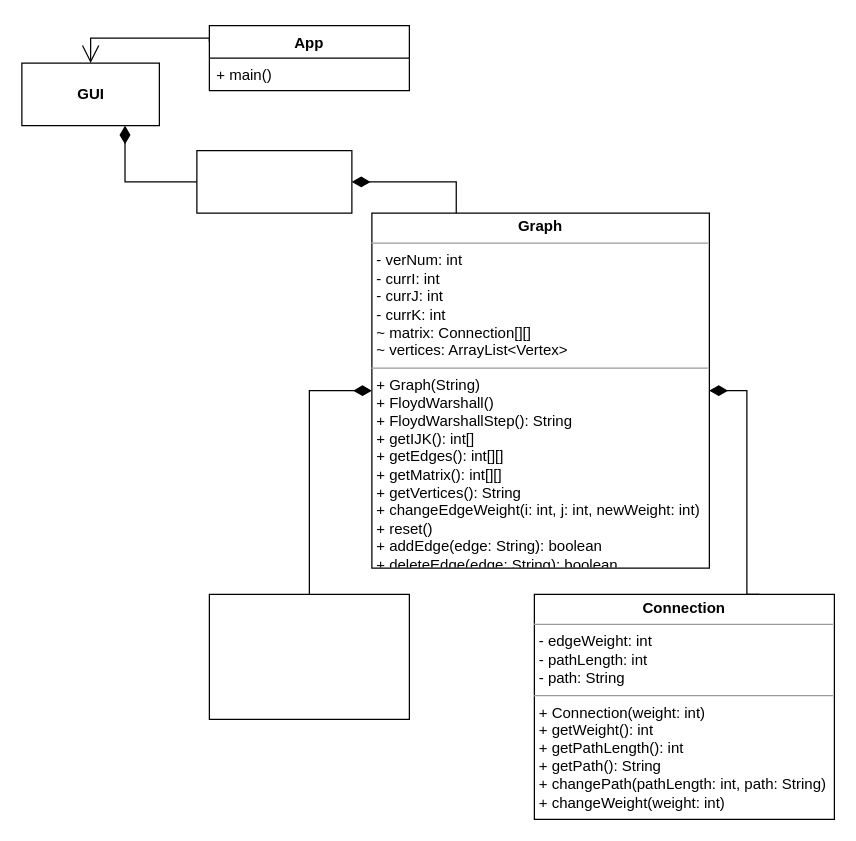
This 856x841 diagram has some shape labels left out. The shapes that lost their labels are listed below. From the top down, each one's centre as x and y in pixels, then its label:
At point 274,181: "GraphController".
At point 308,656: "Vertex - name: char + Vertex(name: char) + getName(): char".
